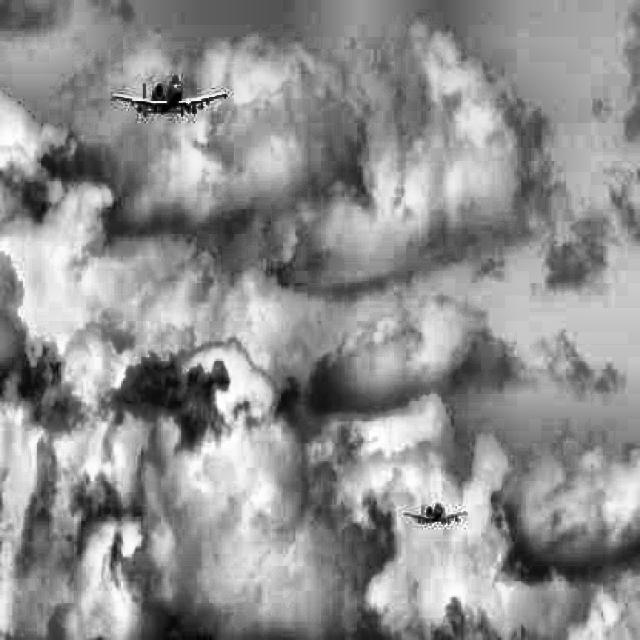A10: (111, 74, 227, 118), (404, 503, 467, 525)
